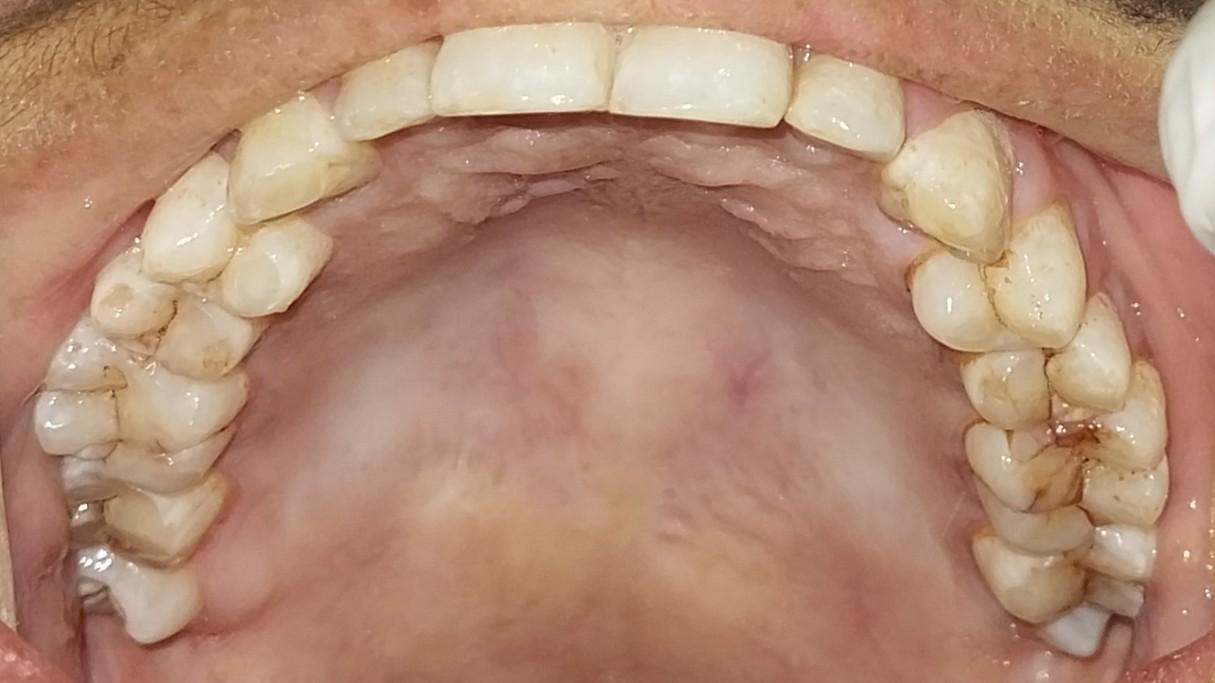D: (957, 363, 1173, 552), (960, 293, 1132, 434), (88, 252, 261, 381)
